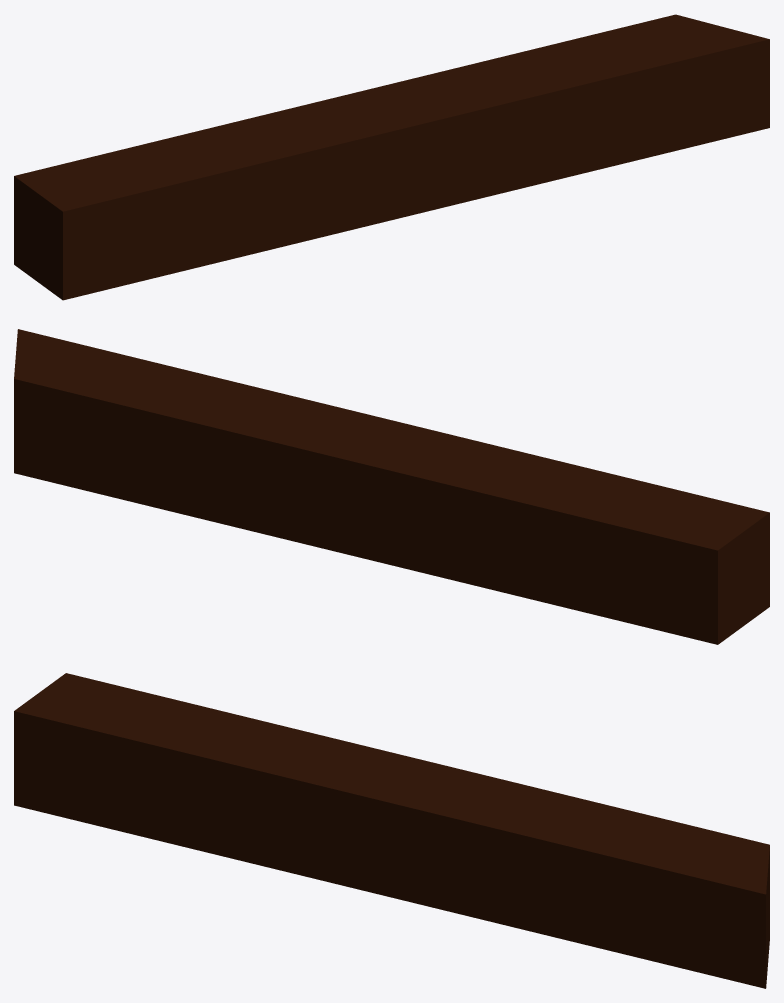
File: croix_part3.fbx
3 views of the same model, one above another, from view 1: azimuth 30°, elevation 25°; view 2: azimuth 150°, elevation 25°; view 3: azimuth 330°, elevation 25° (orthographic). The views are drawn at different scales.
Parts seen in each view (by area): view 1: Object002; view 2: Object002; view 3: Object002.
Part boxes in pixels (left/top/right/bottom): Object002: left=14, top=14, right=769, bottom=300; Object002: left=14, top=329, right=769, bottom=644; Object002: left=14, top=673, right=769, bottom=988.
Bounding box in the file's own units: 0.0963 × 0.0115 × 0.0115.
